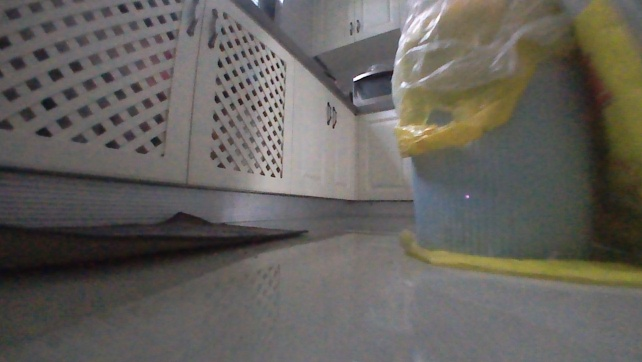blanket: (0, 208, 312, 268)
cupboard: (0, 0, 417, 228)
